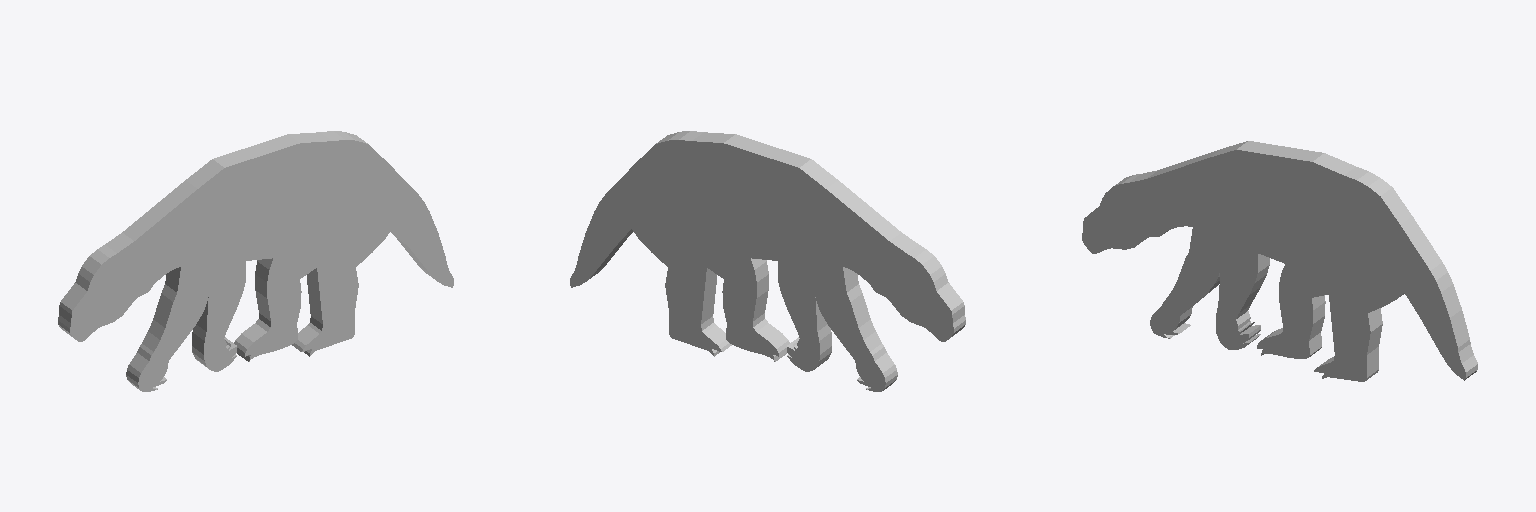
The model's file is megatherium.obj.
3 renders of one model, left to right at view 1: azimuth 30°, elevation 25°; view 2: azimuth 150°, elevation 25°; view 3: azimuth 330°, elevation 25°, orthographic.
Parts seen in each view (by area): view 1: megatherium:Mesh; view 2: megatherium:Mesh; view 3: megatherium:Mesh.
Boxes of the visible parts, <box> form: megatherium:Mesh: <box>58,131,453,391</box>; megatherium:Mesh: <box>570,131,965,391</box>; megatherium:Mesh: <box>1082,141,1477,381</box>.
Bounding box in the file's own units: 16.21 × 8.7 × 0.8934.